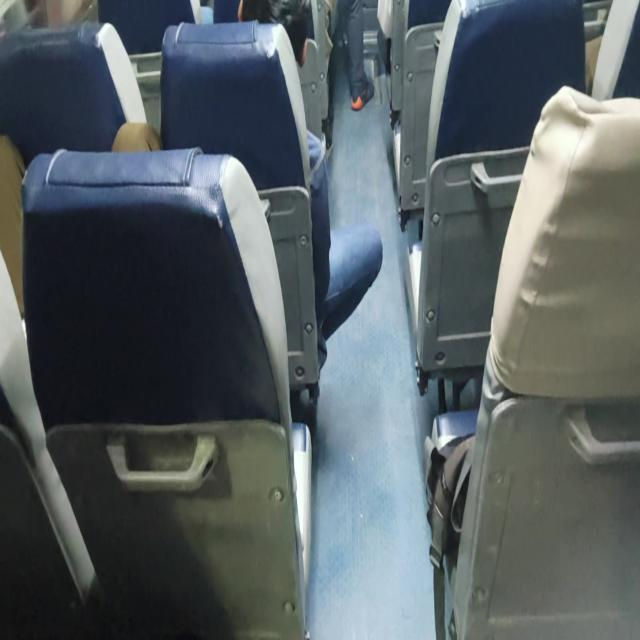person: (112, 2, 384, 437), (237, 1, 383, 374), (0, 119, 162, 319), (330, 0, 375, 112), (237, 0, 309, 68)
